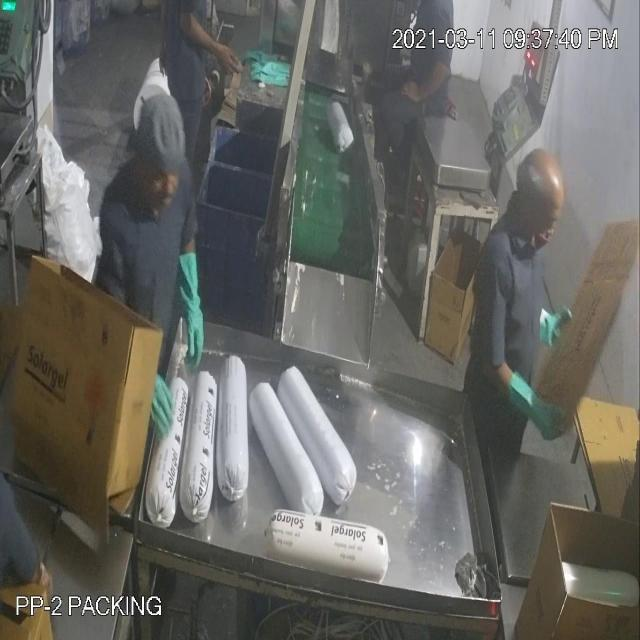No_Gloves: (34, 46, 536, 406)
